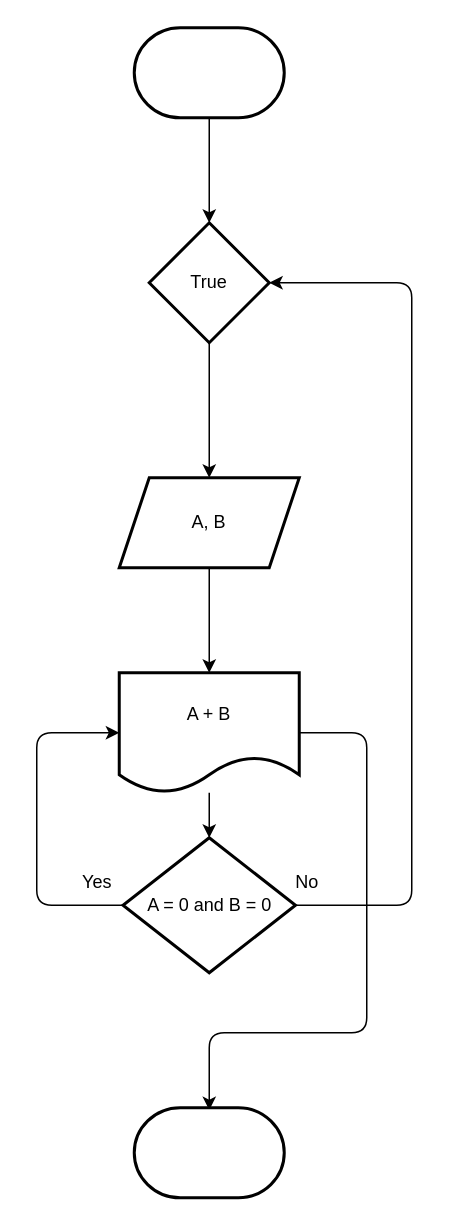
Image size: 450x1224. Some labels were removed from this diagram. Here are the shapes that lost their labels. From the top down, the centre of each, then its label:
At [208,72]: "strat".
At [208,1152]: "finish".
